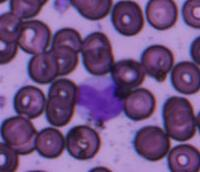M: (76, 76, 123, 122)
